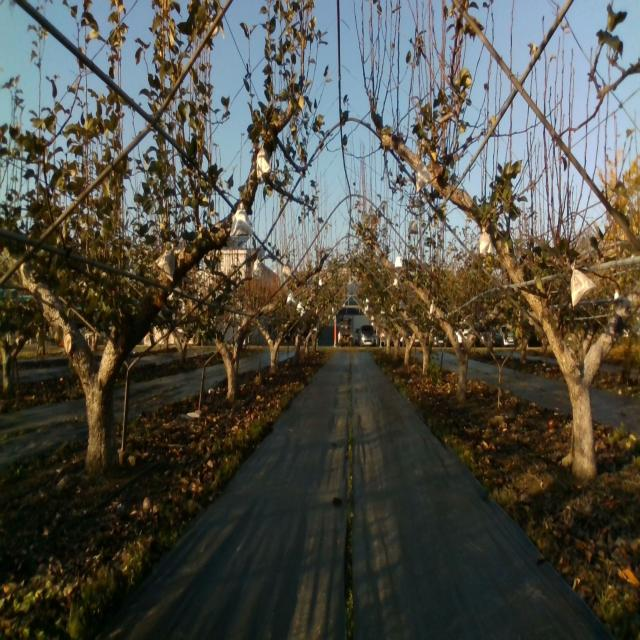pearbags: (570, 262, 596, 308), (229, 198, 254, 238), (154, 243, 176, 282), (478, 225, 498, 256), (414, 160, 433, 192), (256, 143, 272, 180)
